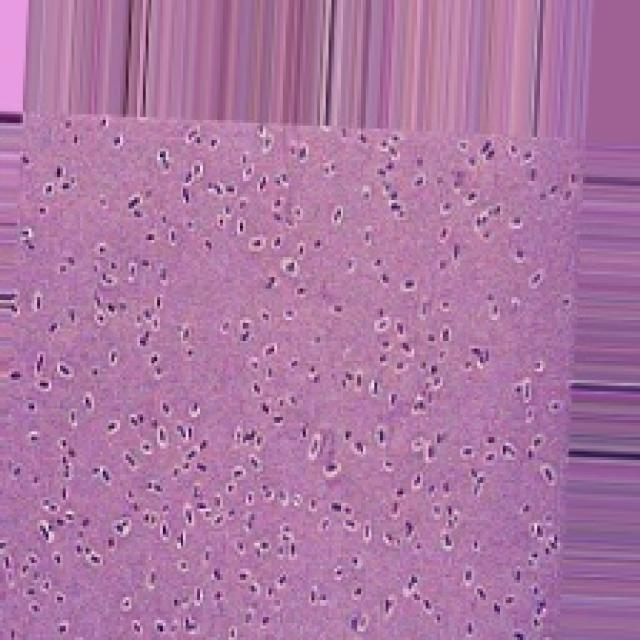Spherical_bacteria: (0, 109, 583, 637)
